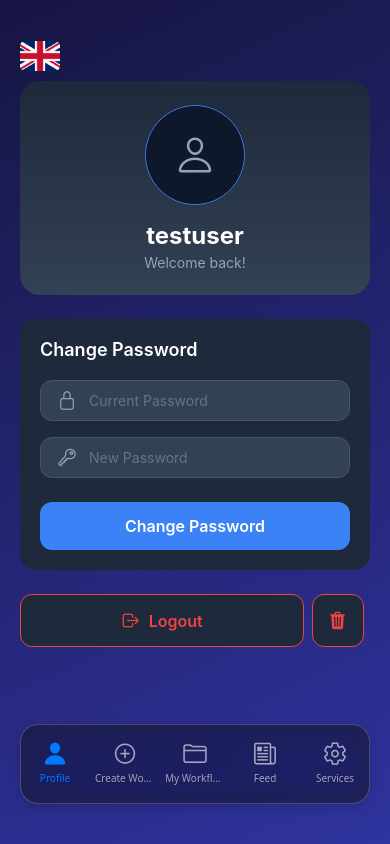
Test: Create Workflow › shows error without action or reaction
What coordinates should you click on to do the following:
click the tab "Create Workflow"
I would click on:
 (125, 764)
Its box is [90,734,160,794].
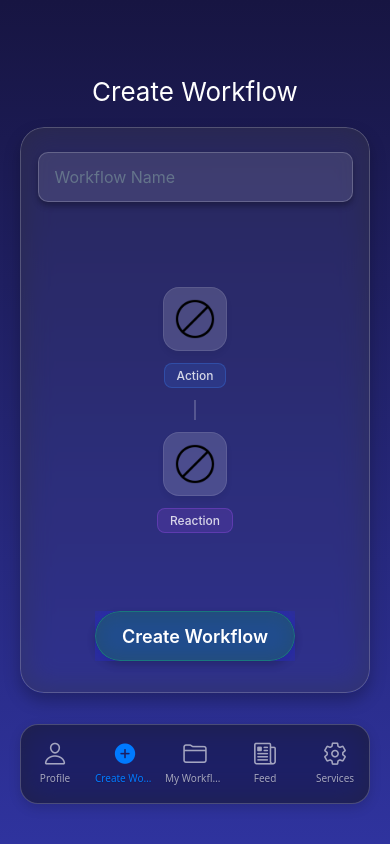
What coordinates should you click on to do the following:
click the element with test id "buttonCreateWorkflow"
I would click on:
 (195, 636)
Its box is [95,611,295,661].
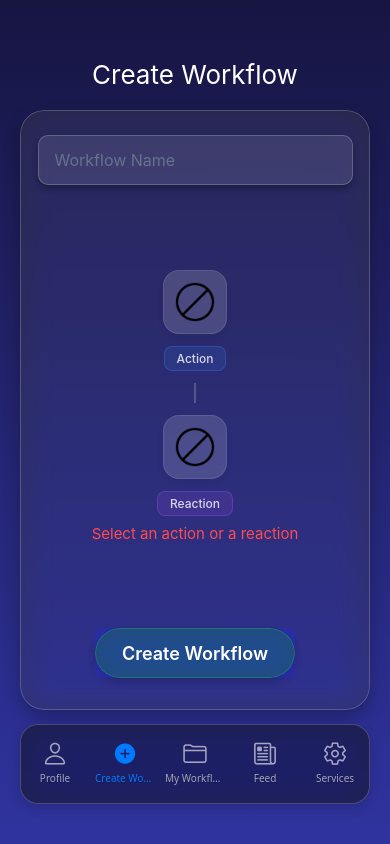
Result: the text "Select an action or a reaction" is shown at [92,524,298,543]
